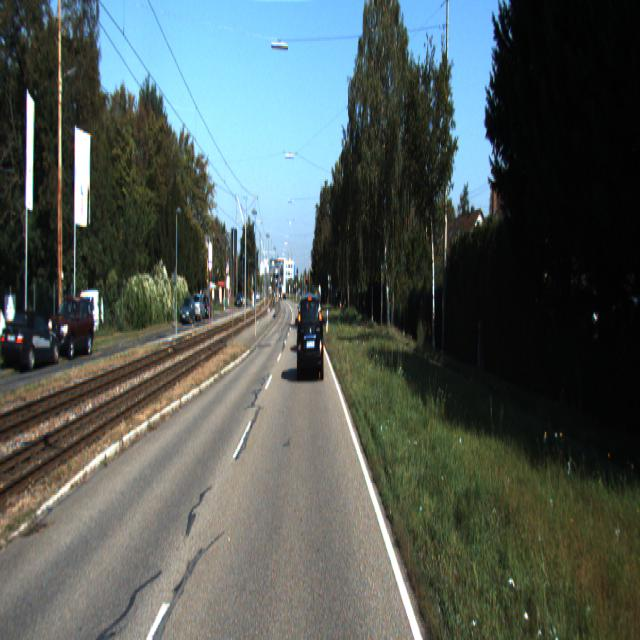Car: (1, 308, 62, 375), (49, 296, 95, 361), (297, 290, 325, 381), (72, 285, 106, 338), (180, 294, 196, 324), (192, 290, 207, 318)
